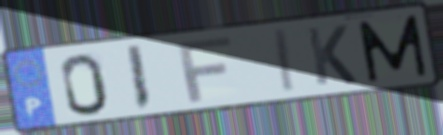0: (57, 50, 112, 117)
F: (175, 34, 235, 104)
I: (123, 43, 154, 114), (274, 26, 299, 95)
K: (303, 23, 360, 88)
M: (355, 13, 431, 85)
